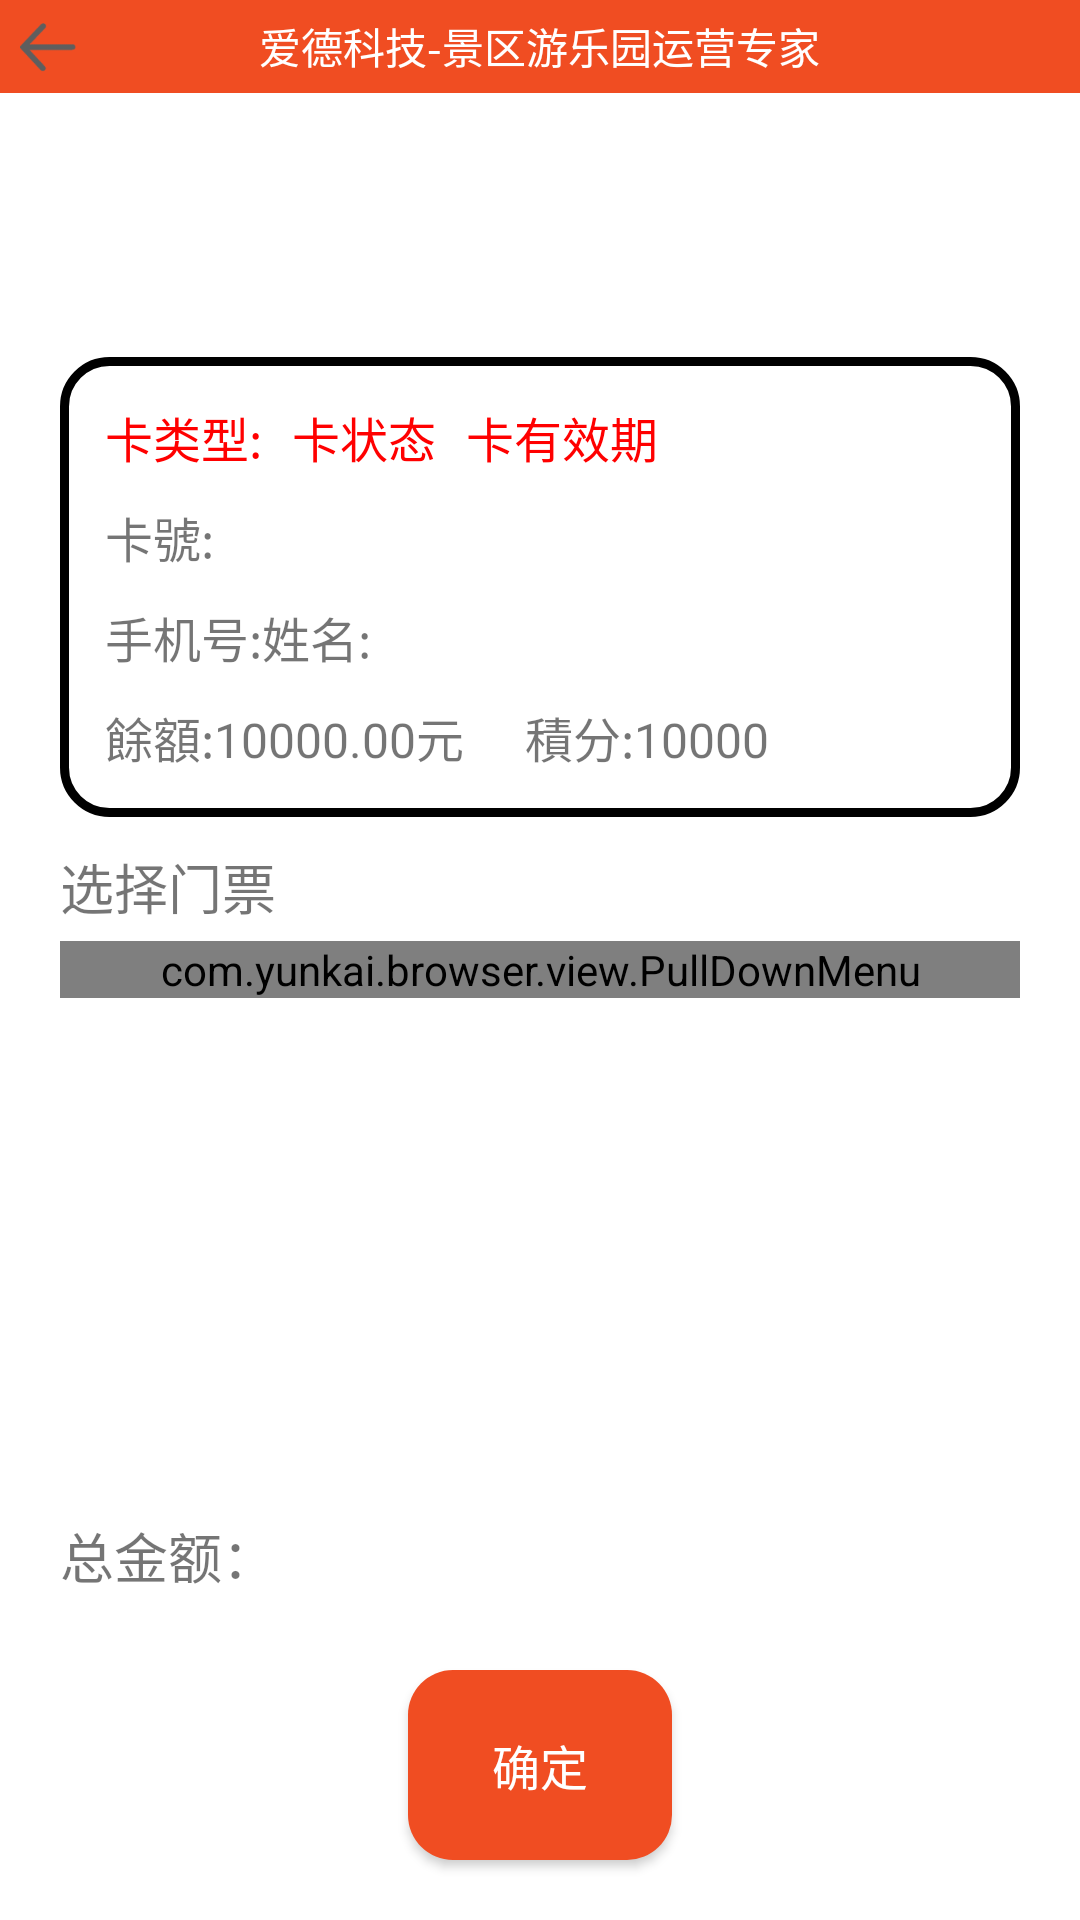

Point at icon controls on the screen. Image size 1080x1920, points as [x,y].
set back: [48,47]
